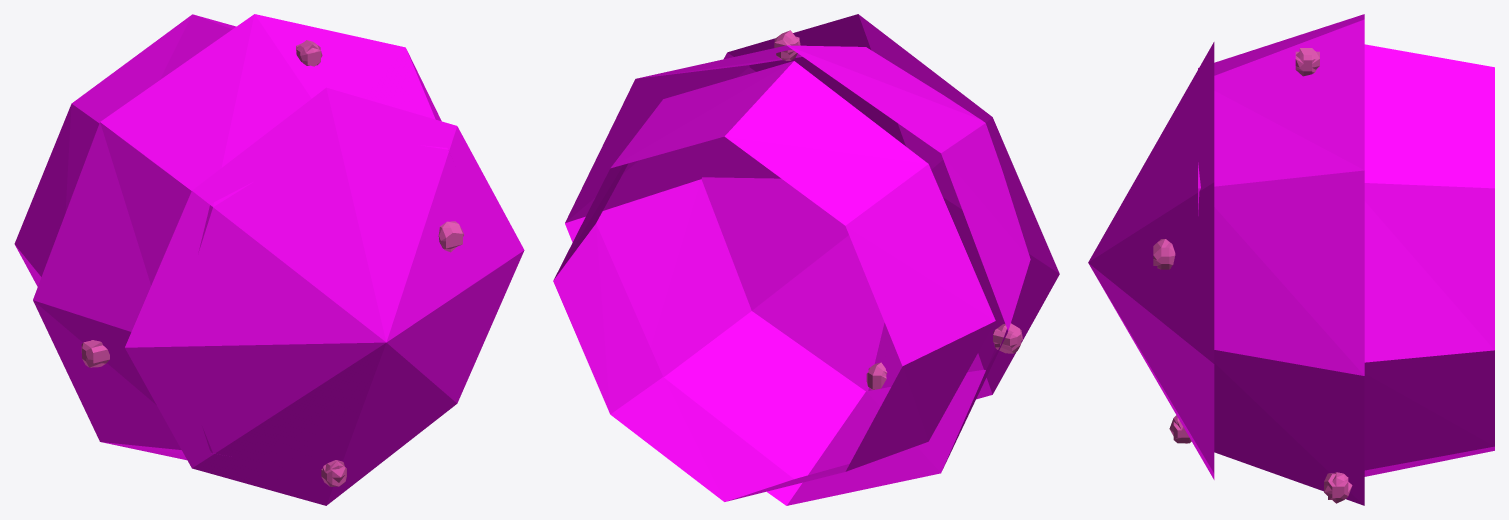
The model's file is cadavaberrybush.obj.
The picture shows the model from 3 angles, left to right: view 1: azimuth 30°, elevation 25°; view 2: azimuth 150°, elevation 25°; view 3: azimuth 270°, elevation 25°; orthographic projection. The views are drawn at different scales.
Parts seen in each view (by area): view 1: cadavaberrybush; view 2: cadavaberrybush; view 3: cadavaberrybush.
Part boxes in pixels (x1,y1,x2,y2): cadavaberrybush: (14, 14, 524, 505); cadavaberrybush: (553, 14, 1059, 505); cadavaberrybush: (1088, 14, 1494, 505).
Bounding box in the file's own units: 1.32 × 1.31 × 1.
